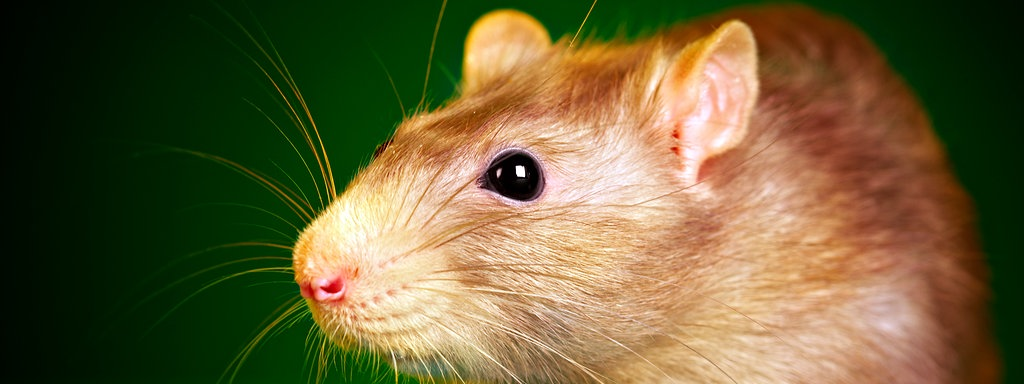rat: (231, 5, 1003, 384)
